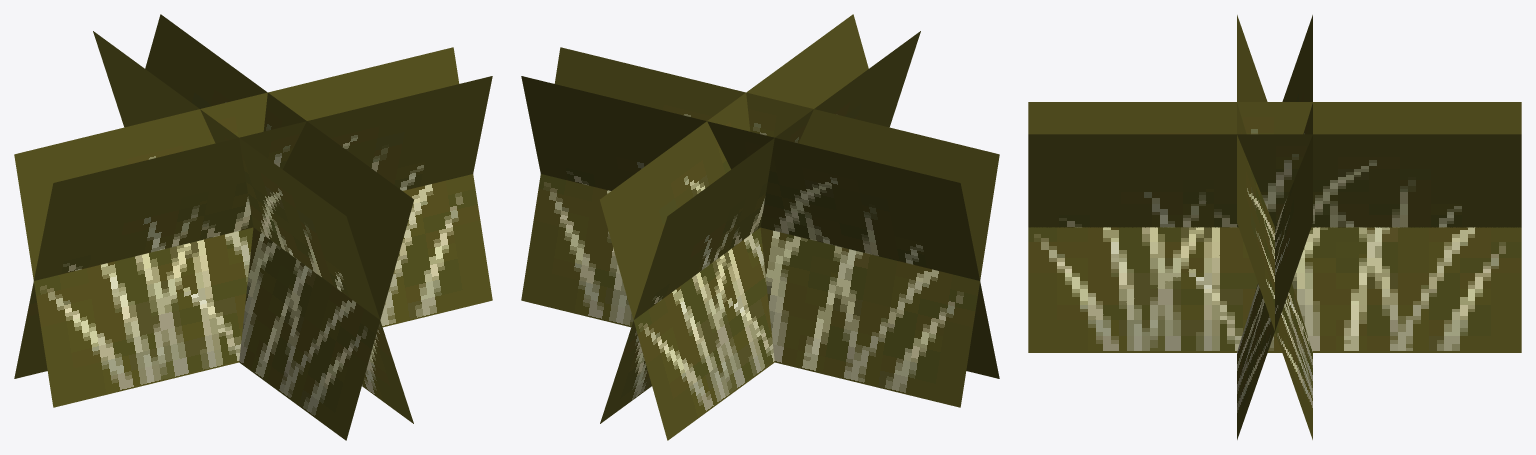
File: grass-07.glb
3 renders of one model, left to right at view 1: azimuth 30°, elevation 25°; view 2: azimuth 150°, elevation 25°; view 3: azimuth 270°, elevation 25°, orthographic. The views are drawn at different scales.
Parts seen in each view (by area): view 1: wrld_fol_grasscluster_a_1; view 2: wrld_fol_grasscluster_a_1; view 3: wrld_fol_grasscluster_a_1.
Part boxes in pixels (box(x1,y1,x2,y2)): wrld_fol_grasscluster_a_1: box(14, 14, 492, 440); wrld_fol_grasscluster_a_1: box(521, 14, 999, 440); wrld_fol_grasscluster_a_1: box(1028, 15, 1521, 439).
Size of the model in its own units: 2.75 by 1.34 by 2.75.
1 material, 1 textured.
